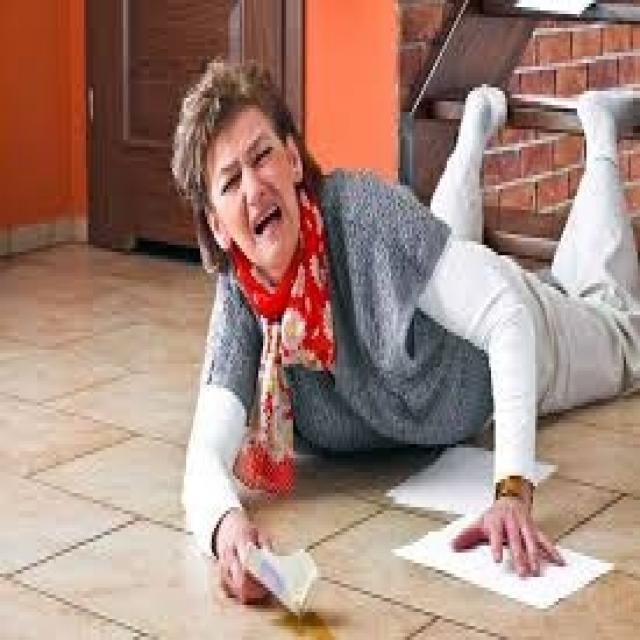fall detected: (149, 51, 640, 617)
